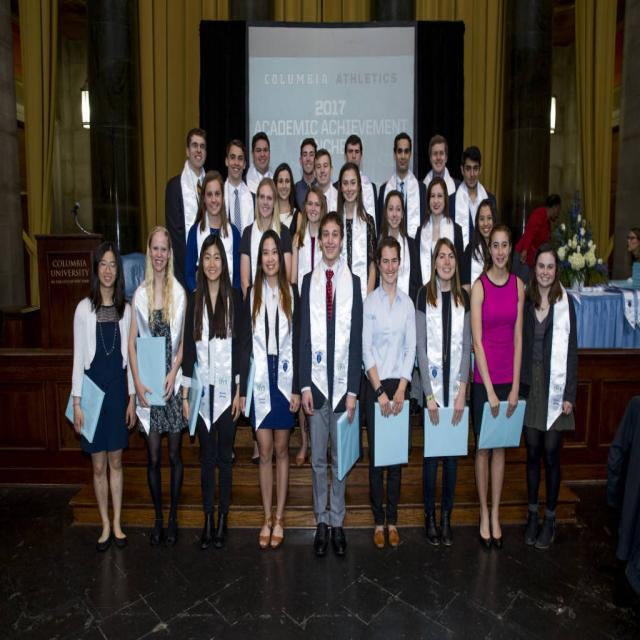body: (296, 210, 364, 558), (178, 230, 248, 551), (125, 222, 192, 556), (236, 225, 304, 552), (512, 240, 581, 555), (407, 233, 475, 548), (70, 239, 138, 553), (468, 218, 528, 554), (356, 232, 419, 551), (238, 175, 294, 466), (290, 181, 329, 472), (602, 386, 640, 640), (164, 126, 212, 306), (184, 170, 242, 297), (414, 176, 466, 300), (335, 160, 378, 306), (376, 130, 428, 240), (374, 188, 421, 307), (448, 144, 498, 255), (332, 133, 379, 240), (512, 194, 562, 286), (460, 196, 500, 305), (422, 134, 463, 224), (241, 130, 276, 224), (223, 139, 255, 239), (272, 162, 304, 240), (311, 147, 338, 216), (293, 137, 318, 211), (626, 222, 640, 282)
